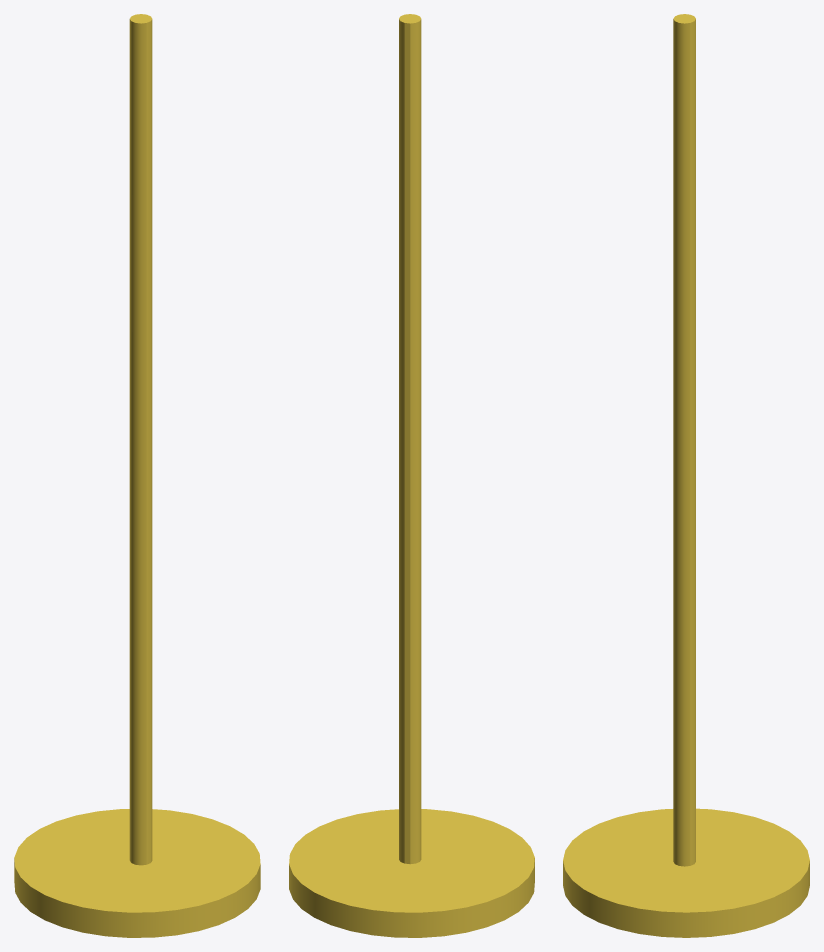
The model's file is SpotLight.fbx.
The picture shows the model from 3 angles, left to right: view 1: azimuth 30°, elevation 25°; view 2: azimuth 150°, elevation 25°; view 3: azimuth 270°, elevation 25°; orthographic projection.
Parts seen in each view (by area): view 1: Cylinder.004; view 2: Cylinder.004; view 3: Cylinder.004.
Part boxes in pixels (x1,y1,x2,y2): Cylinder.004: [14, 14, 260, 937]; Cylinder.004: [289, 14, 534, 937]; Cylinder.004: [563, 14, 809, 937].
Size of the model in its own units: 55.73 by 216 by 55.73.
